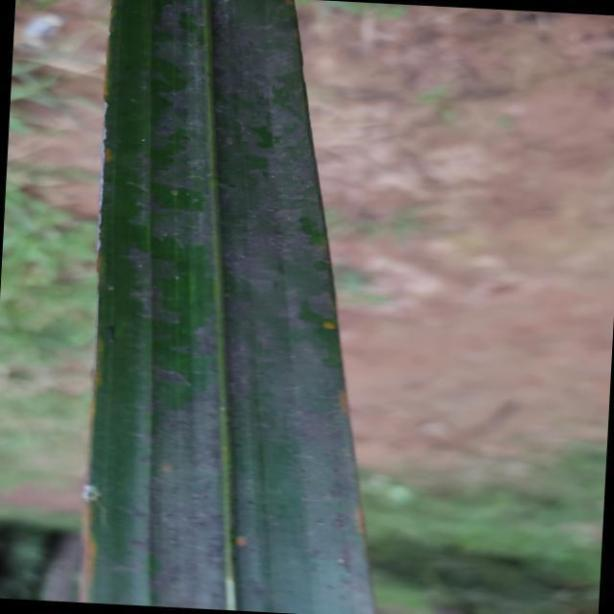Kalium: (86, 0, 375, 612)
